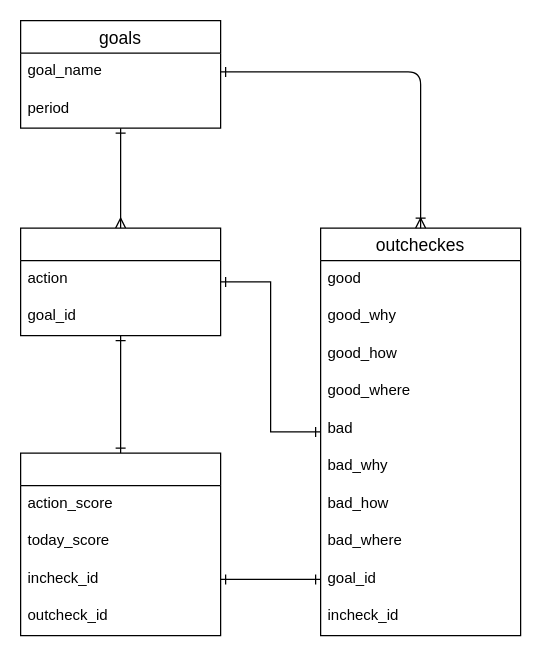
This 541x656 diagram has some shape labels left out. The box of each missing label's shape, as (x1, y1, x2, y2) in pixels:
incheckes: (19, 227, 221, 336)
scores: (19, 452, 221, 636)
